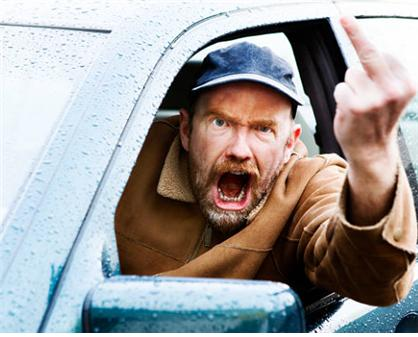insulting_gesture: (331, 11, 418, 165)
